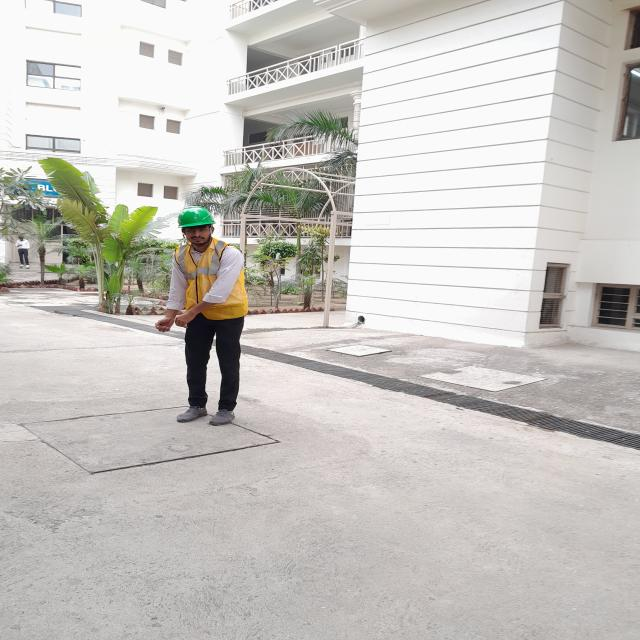safe: (156, 206, 248, 427)
